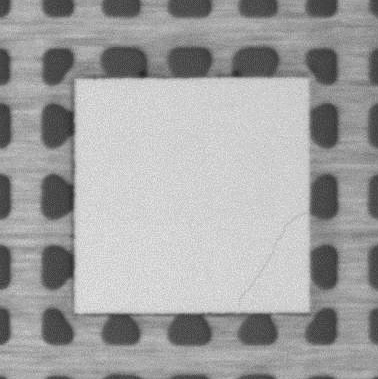DIE_CRACK: (236, 212, 308, 301)
